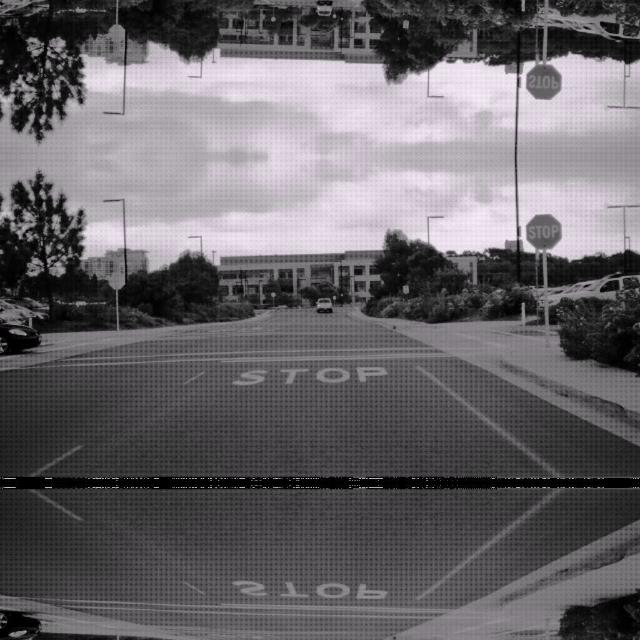stop: (524, 212, 562, 248), (524, 64, 562, 100)
